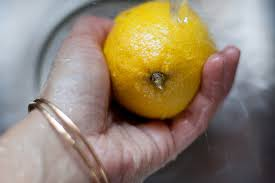lemon: (109, 2, 223, 121)
